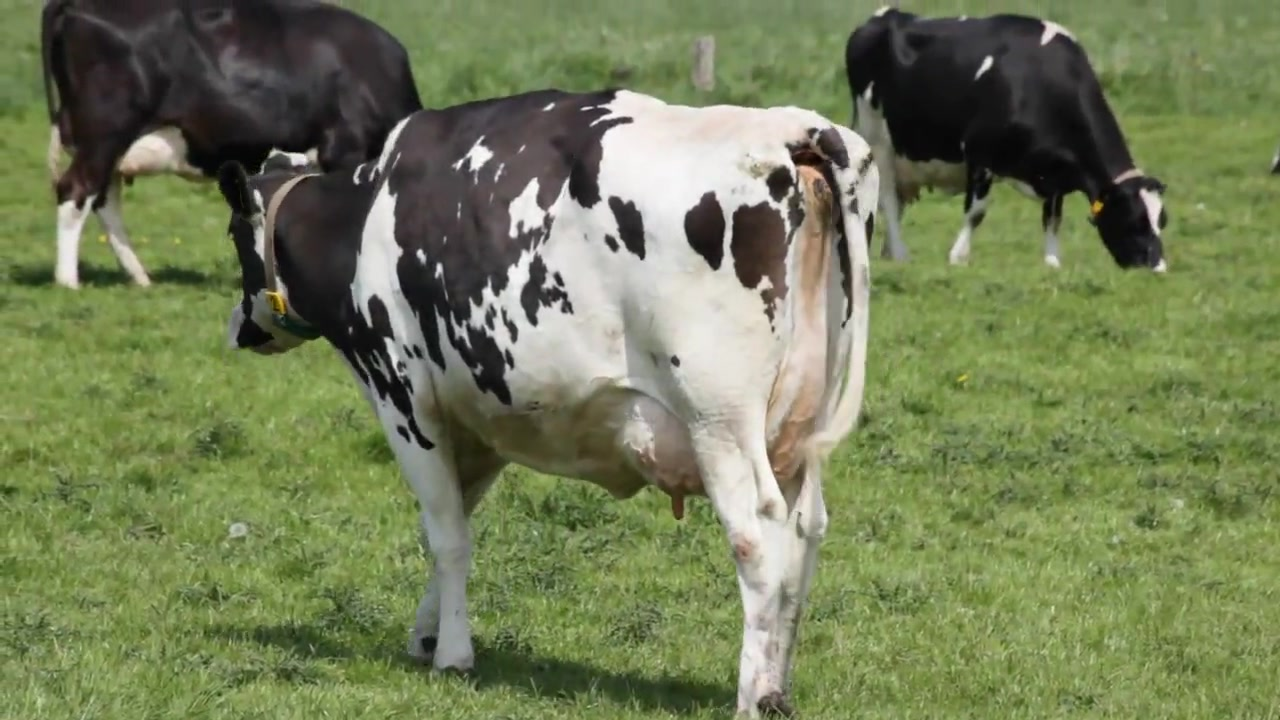cow: (218, 85, 882, 719)
